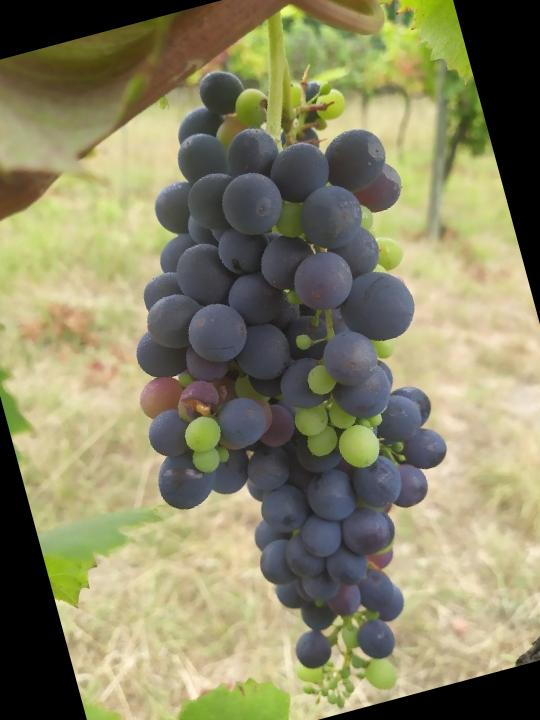grape: (57, 30, 531, 720)
